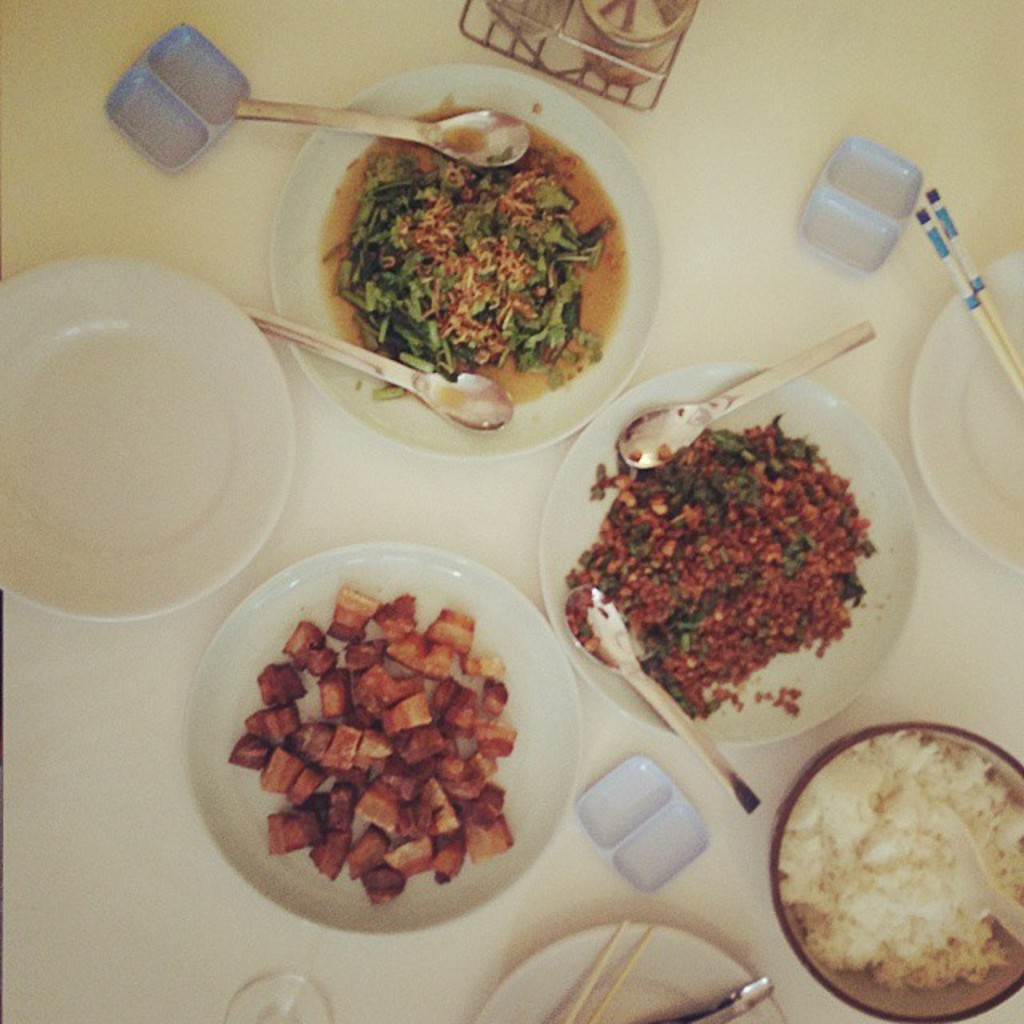plate: (182, 513, 633, 929)
